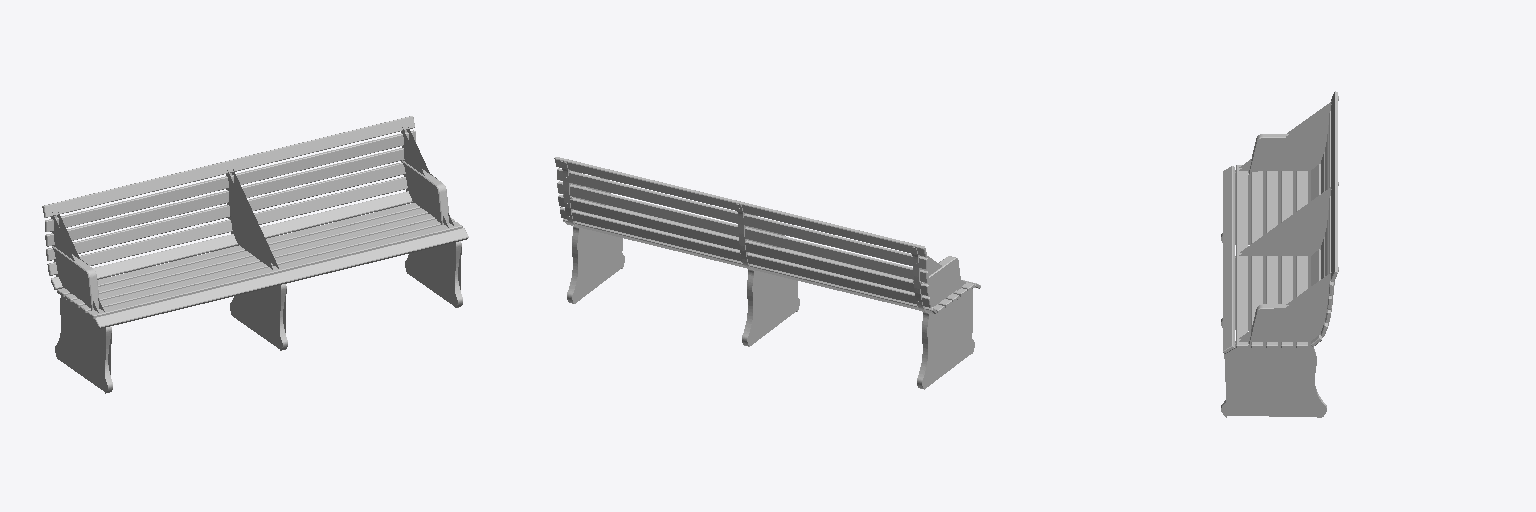
Rendered from bench.obj.
3 renders of one model, left to right at view 1: azimuth 30°, elevation 25°; view 2: azimuth 150°, elevation 25°; view 3: azimuth 270°, elevation 25°, orthographic.
Parts seen in each view (by area): view 1: Back_Slat_6, Seat_Slat_1, Back_Slat_5, Back_Slat_4, Back_Slat_3, Back_Slat_2, Back_Slat_1, Cap_1_1, Seat_Slat_2, Seat_Slat_3, Seat_Slat_4, Seat_Slat_5 (+9 smaller); view 2: Back_Slat_5, Back_Slat_4, Back_Slat_3, Back_Slat_2, Back_Slat_6, Cap_1_1, Cap_1, Cap_1_2, Back_Slat_1, Cap_1_4, Cap_1_7; view 3: Cap_2_2, Cap_2_6, Seat_Slat_1, Seat_Slat_2, Cap_2_5, Cap_2_7, Seat_Slat_3, Seat_Slat_4, Cap_2_3, Cap_2_4, Back_Slat_6, Seat_Slat_5 (+4 smaller).
Boxes of the visible parts, <box> form: Back_Slat_6: <box>42,116,414,217</box>; Seat_Slat_1: <box>94,228,468,328</box>; Back_Slat_5: <box>45,130,415,231</box>; Back_Slat_4: <box>45,148,404,246</box>; Back_Slat_3: <box>46,162,405,260</box>; Back_Slat_2: <box>47,177,407,275</box>; Back_Slat_1: <box>51,191,412,289</box>; Cap_1_1: <box>55,296,107,393</box>; Seat_Slat_2: <box>87,222,462,318</box>; Seat_Slat_3: <box>80,217,454,312</box>; Seat_Slat_4: <box>72,214,434,307</box>; Seat_Slat_5: <box>65,208,427,301</box>; Back_Slat_5: <box>557,168,927,269</box>; Back_Slat_4: <box>557,181,928,282</box>; Back_Slat_3: <box>558,195,929,295</box>; Back_Slat_2: <box>560,207,931,307</box>; Back_Slat_6: <box>554,157,926,256</box>; Cap_1_1: <box>922,289,974,389</box>; Cap_1: <box>747,270,799,346</box>; Cap_1_2: <box>572,228,624,303</box>; Back_Slat_1: <box>563,218,936,313</box>; Cap_1_4: <box>922,258,961,290</box>; Cap_1_7: <box>916,248,965,312</box>; Cap_2_2: <box>1221,345,1326,417</box>; Cap_2_6: <box>1235,184,1338,263</box>; Seat_Slat_1: <box>1223,166,1234,353</box>; Seat_Slat_2: <box>1236,165,1247,347</box>; Cap_2_5: <box>1235,270,1338,345</box>; Cap_2_7: <box>1235,99,1338,175</box>; Seat_Slat_3: <box>1251,171,1262,347</box>; Seat_Slat_4: <box>1266,171,1277,347</box>; Cap_2_3: <box>1248,307,1326,345</box>; Cap_2_4: <box>1249,137,1326,174</box>; Back_Slat_6: <box>1331,91,1337,281</box>; Seat_Slat_5: <box>1281,171,1292,347</box>.
Bounding box in the file's own units: 356 × 138 × 98.28.